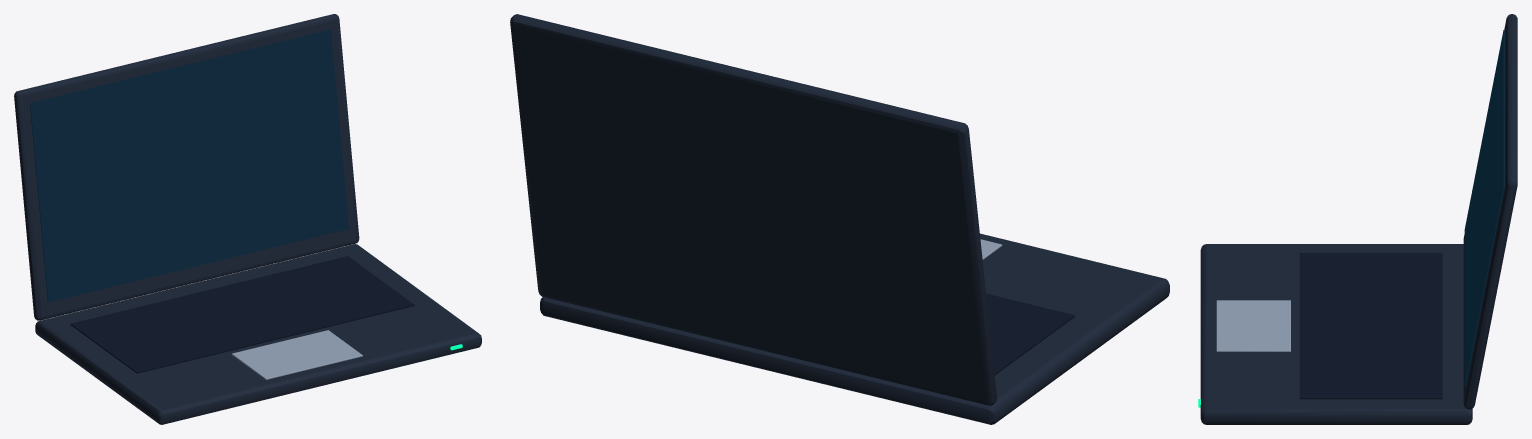
Rendered from computer.glb.
The picture shows the model from 3 angles, left to right: view 1: azimuth 30°, elevation 25°; view 2: azimuth 150°, elevation 25°; view 3: azimuth 270°, elevation 25°; orthographic projection. The views are drawn at different scales.
Visible parts, largest first — view 1: screen, body; view 2: body; view 3: body, screen.
Boxes of the visible parts, x1=… form: screen: x1=29, y1=29, x2=348, y2=302; body: x1=14, y1=14, x2=481, y2=424; body: x1=510, y1=14, x2=1169, y2=424; body: x1=1200, y1=14, x2=1517, y2=424; screen: x1=1464, y1=30, x2=1504, y2=386.
Size of the model in its own units: 1.48 by 1 by 1.18.
